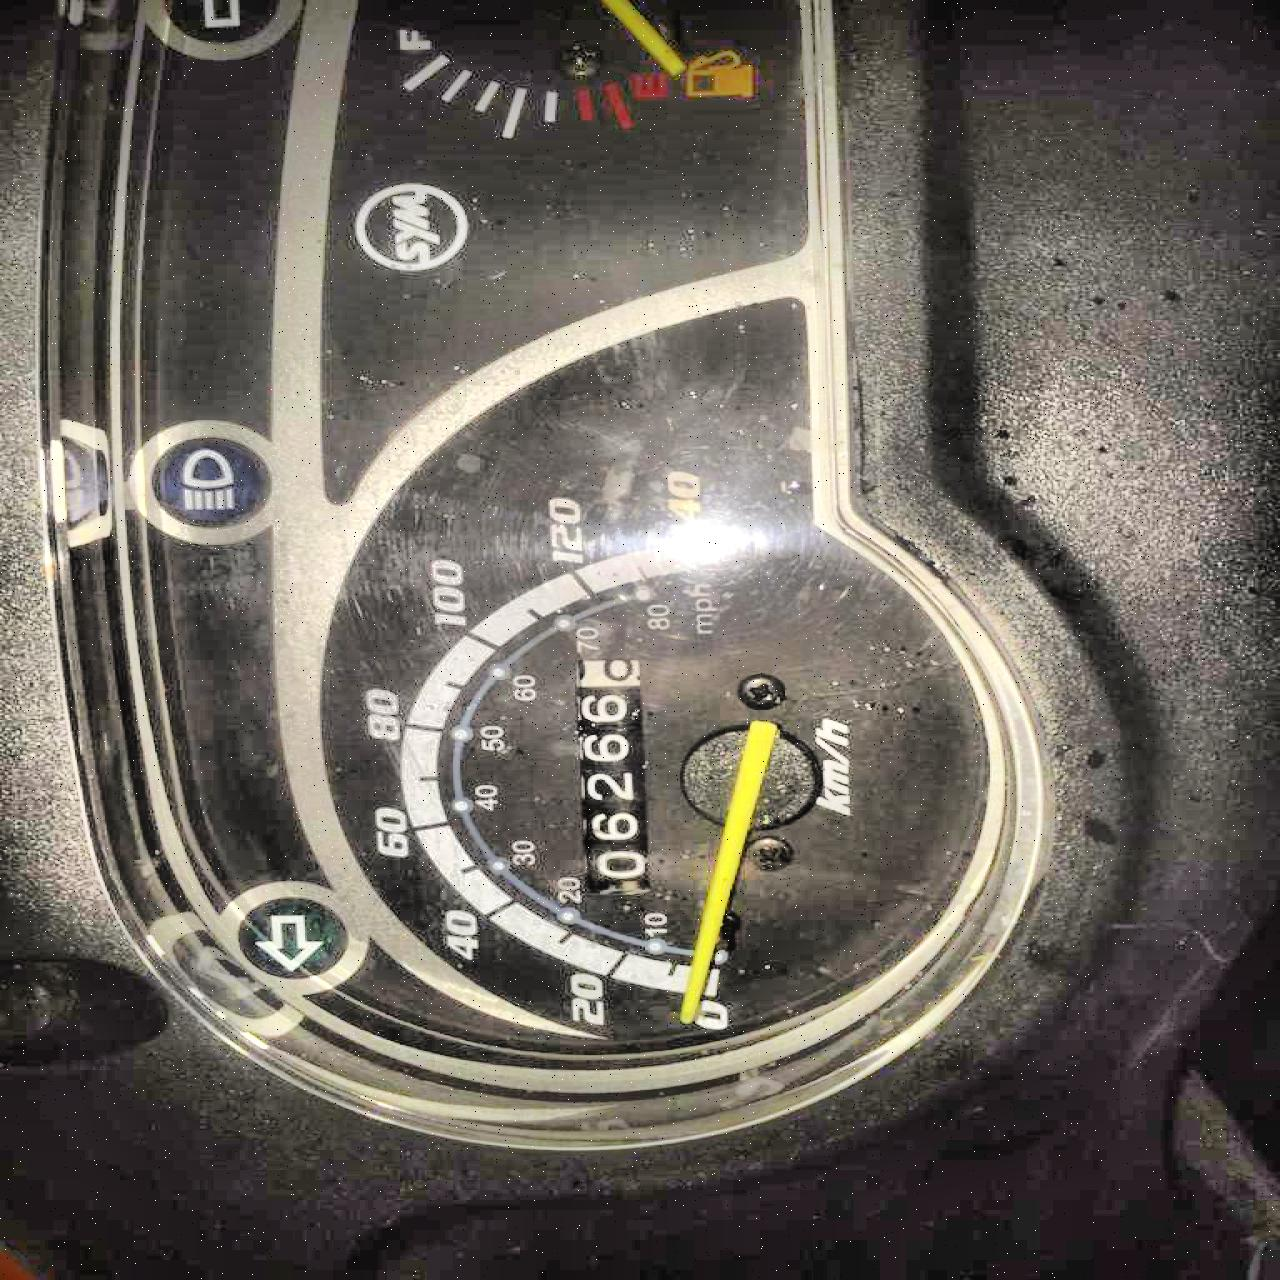0: (593, 847, 652, 878)
2: (581, 770, 644, 801)
6: (577, 694, 636, 721), (585, 811, 640, 839), (584, 733, 632, 762)
9: (601, 658, 647, 681)
odometer: (573, 656, 669, 893)
